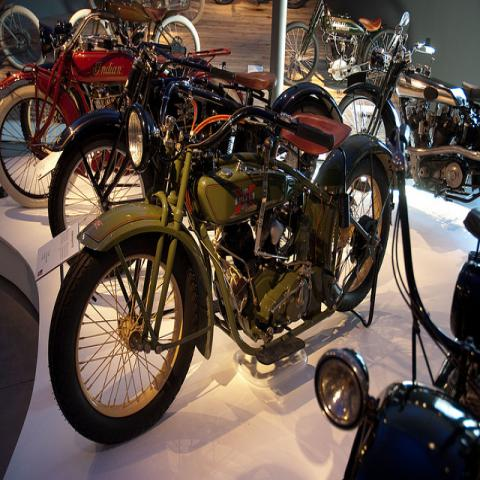motorcycle: (47, 82, 395, 446), (47, 15, 345, 240), (312, 208, 479, 474), (0, 6, 184, 208), (338, 10, 480, 205), (283, 0, 397, 88), (87, 62, 130, 113)
